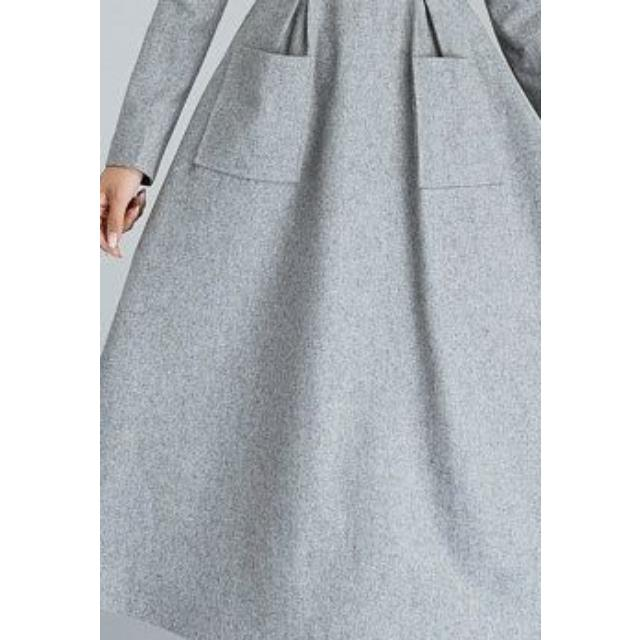wool: (122, 0, 540, 640)
